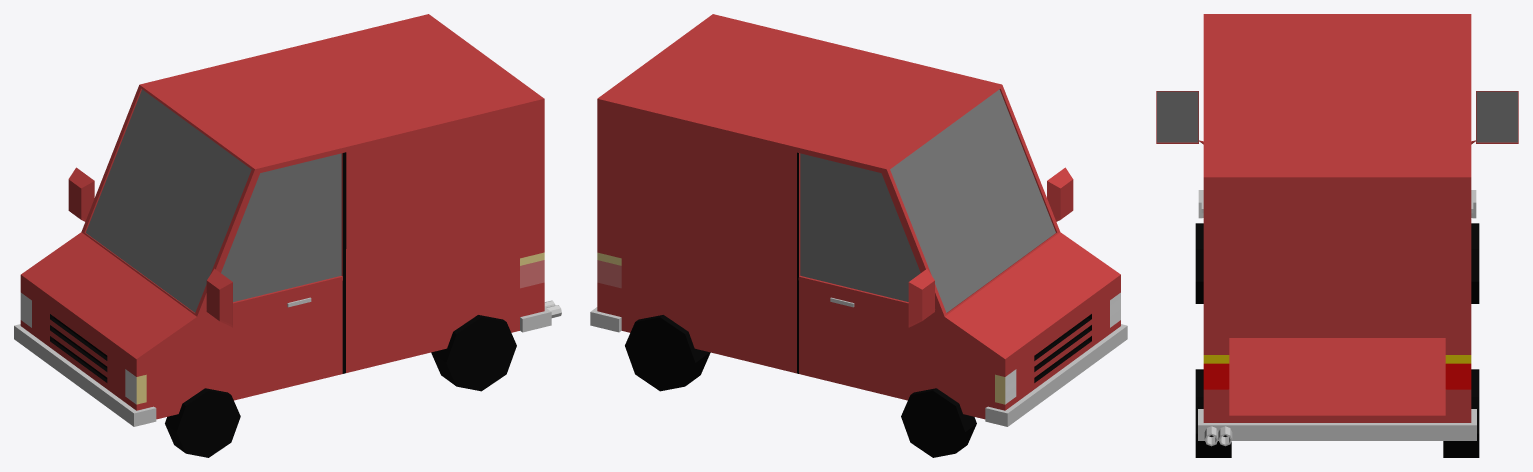
File: van02.fbx
The picture shows the model from 3 angles, left to right: view 1: azimuth 30°, elevation 25°; view 2: azimuth 150°, elevation 25°; view 3: azimuth 270°, elevation 25°; orthographic projection. The views are drawn at different scales.
Parts seen in each view (by area): view 1: pPipe4; view 2: pPipe4; view 3: pPipe4.
Part boxes in pixels (box(x1,y1,x2,y2)): pPipe4: box(14, 14, 561, 457); pPipe4: box(590, 14, 1127, 457); pPipe4: box(1156, 14, 1518, 457).
Bounding box in the file's own units: 11.61 × 7.06 × 7.32.
